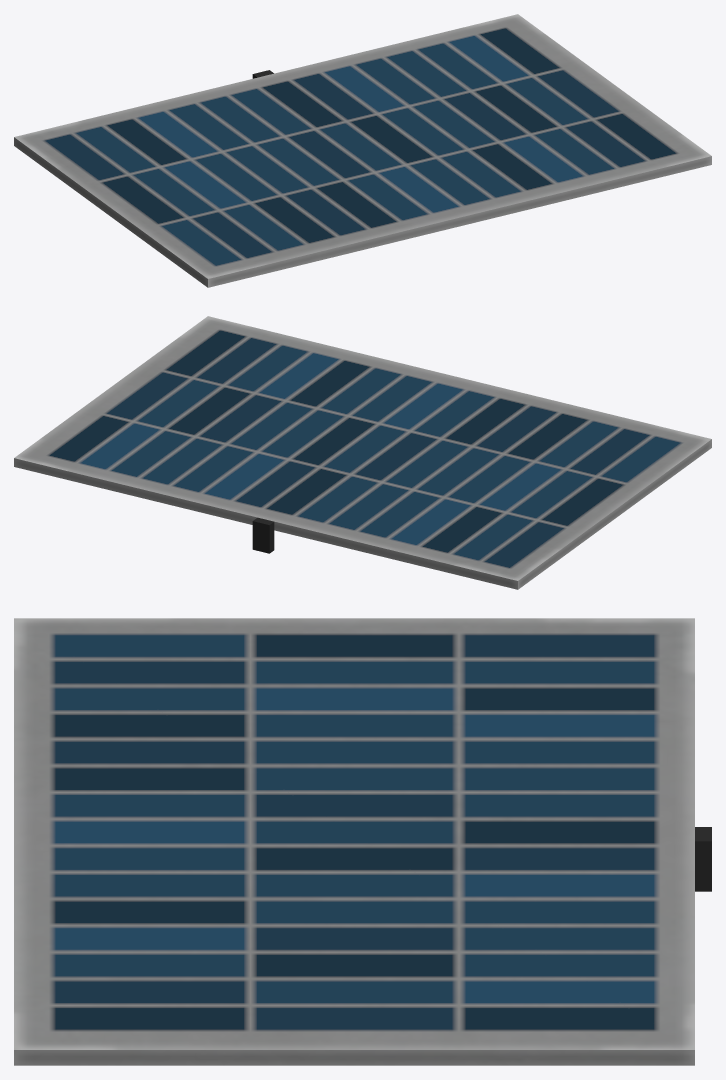
File: vega_solar_srf_1_panel_2.obj
The picture shows the model from 3 angles, top to bottom: view 1: azimuth 30°, elevation 25°; view 2: azimuth 150°, elevation 25°; view 3: azimuth 270°, elevation 25°; orthographic projection. The views are drawn at different scales.
Visible parts, largest first — view 1: vega_solar_srf_1_panel_2; view 2: vega_solar_srf_1_panel_2; view 3: vega_solar_srf_1_panel_2.
Part boxes in pixels (x1,y1,x2,y2): vega_solar_srf_1_panel_2: [14, 14, 711, 287]; vega_solar_srf_1_panel_2: [14, 316, 711, 589]; vega_solar_srf_1_panel_2: [14, 618, 711, 1065].
Size of the model in its own units: 0.75 by 0.0406 by 0.5125.
